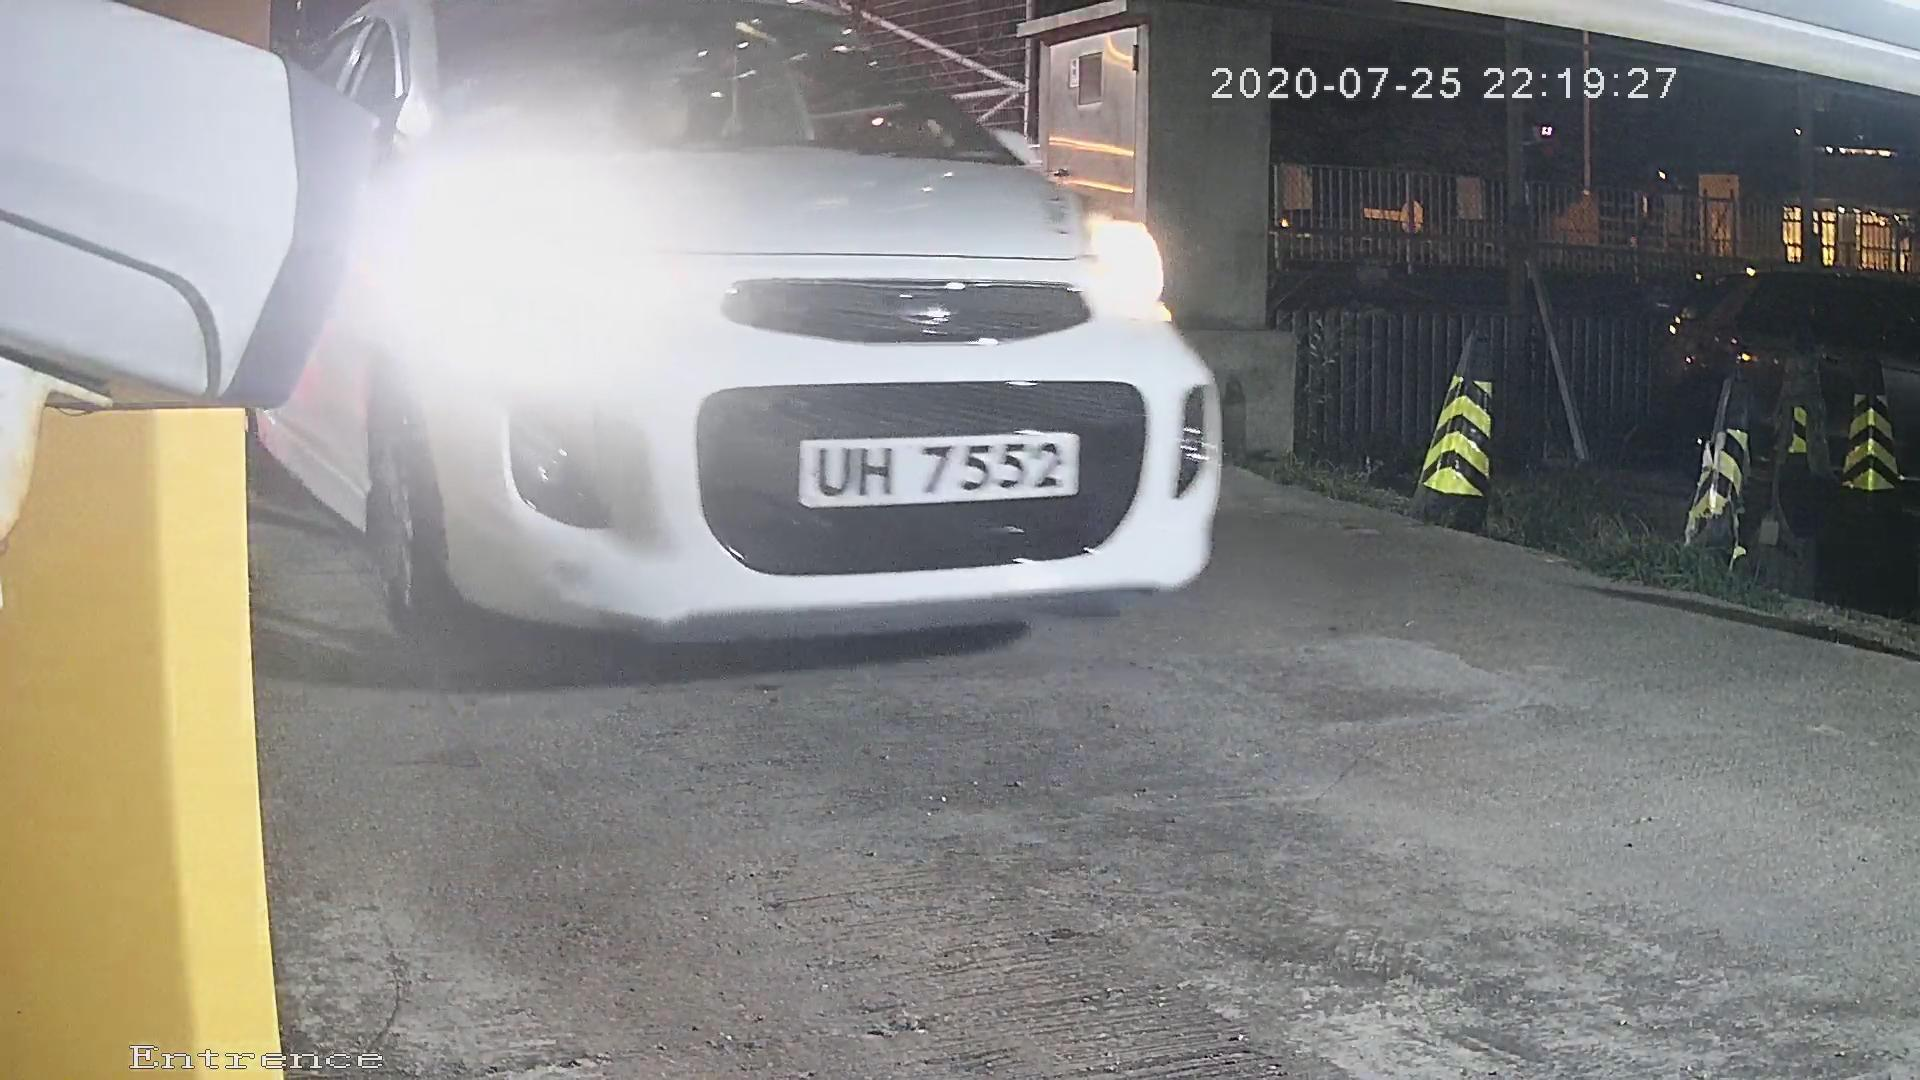privatecar: (291, 5, 1269, 695)
